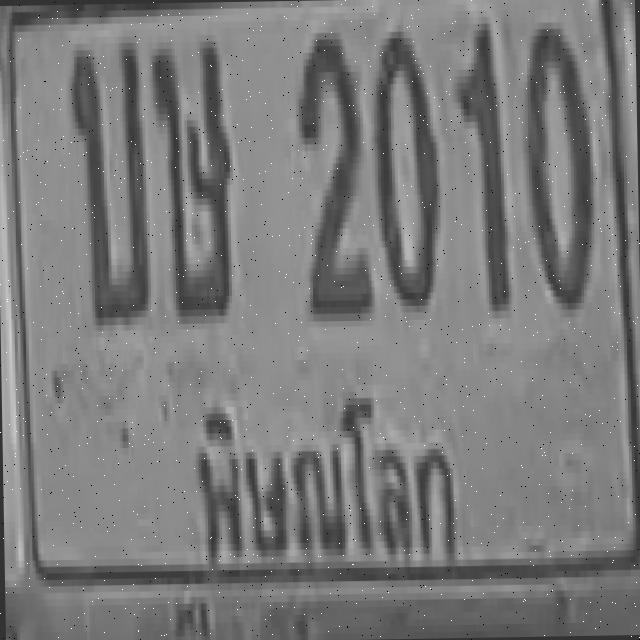0: (522, 15, 594, 310), (371, 24, 437, 306)
1: (454, 16, 508, 311)
2: (294, 26, 366, 314)
35BorBaiMai: (68, 32, 148, 321)
48SorRueSi: (149, 31, 232, 313)
Phitsanulok: (181, 376, 465, 587)
